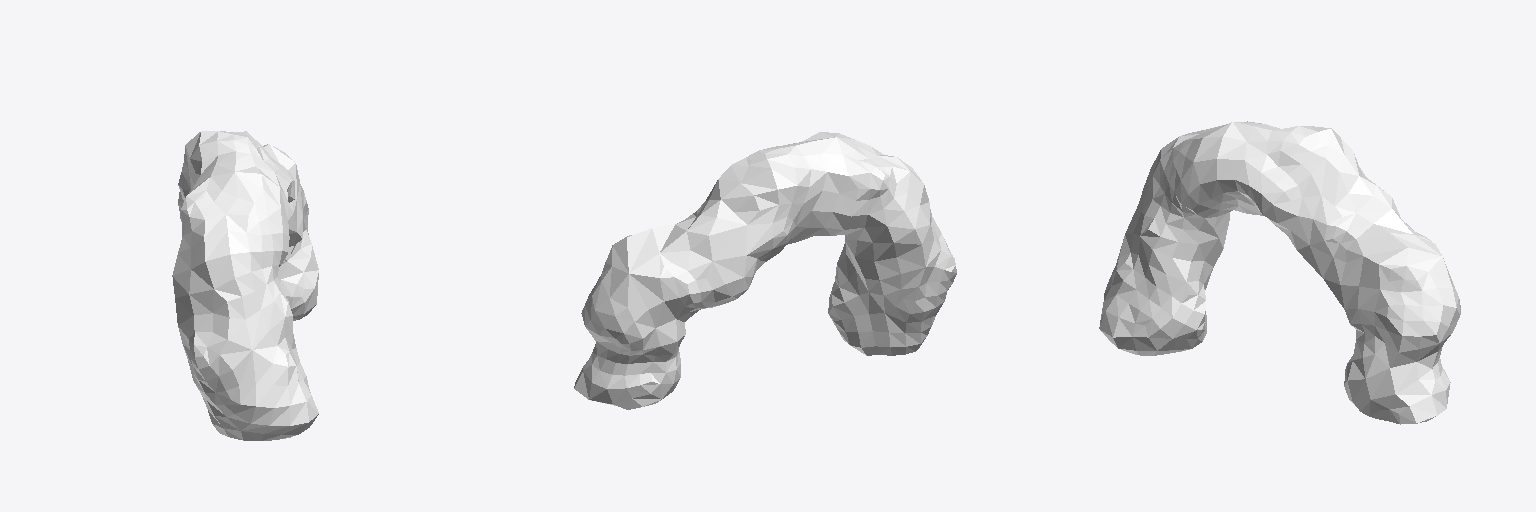
The model's file is RockArch.Obj.
3 renders of one model, left to right at view 1: azimuth 30°, elevation 25°; view 2: azimuth 150°, elevation 25°; view 3: azimuth 270°, elevation 25°, orthographic.
Visible parts, largest first — view 1: Volume5; view 2: Volume5; view 3: Volume5.
Boxes of the visible parts, x1,y1,x2,y2 form: Volume5: [172, 131, 318, 440]; Volume5: [574, 132, 956, 409]; Volume5: [1099, 121, 1460, 424].
Size of the model in its own units: 336 by 299 by 423.